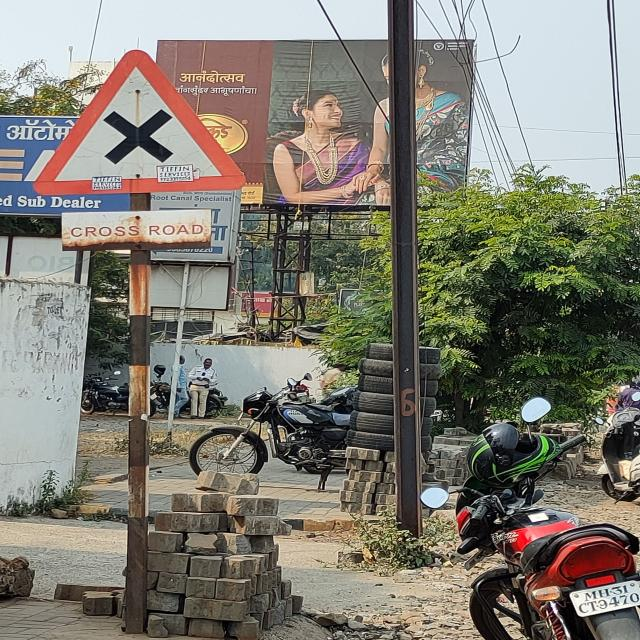cross_road: (30, 48, 245, 198)
